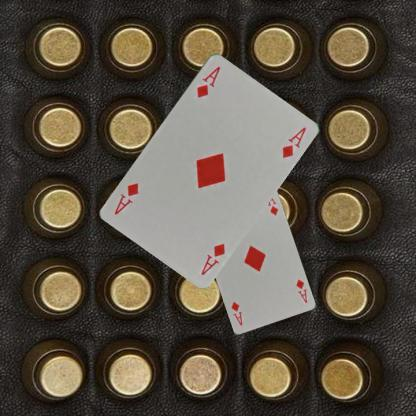Ad: (192, 63, 222, 100), (198, 240, 227, 277), (293, 277, 308, 304)
